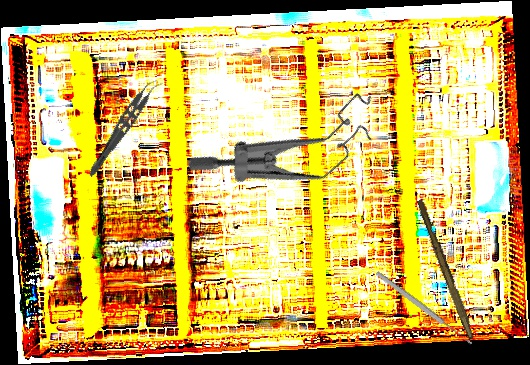Scalpel Handle: (413, 198, 479, 341)
Speculum: (183, 39, 396, 245)
Surgical Spoon: (374, 270, 474, 347)
Tissue Forceps: (85, 73, 164, 184)
